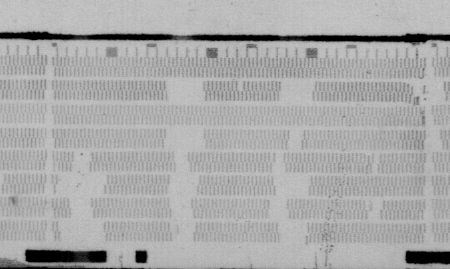Broken hole: (167, 172, 196, 244), (55, 218, 109, 243), (54, 174, 111, 197), (162, 127, 206, 151), (164, 79, 206, 102), (277, 78, 316, 102), (272, 172, 311, 195), (277, 222, 312, 246), (415, 82, 450, 106), (68, 196, 95, 218), (266, 197, 290, 219), (71, 150, 93, 172), (364, 199, 386, 221), (171, 151, 192, 174), (286, 130, 304, 152), (270, 151, 287, 171), (430, 129, 445, 151), (372, 153, 382, 176), (236, 80, 246, 91)
Oblique printing: (362, 153, 374, 176), (406, 80, 417, 105)
